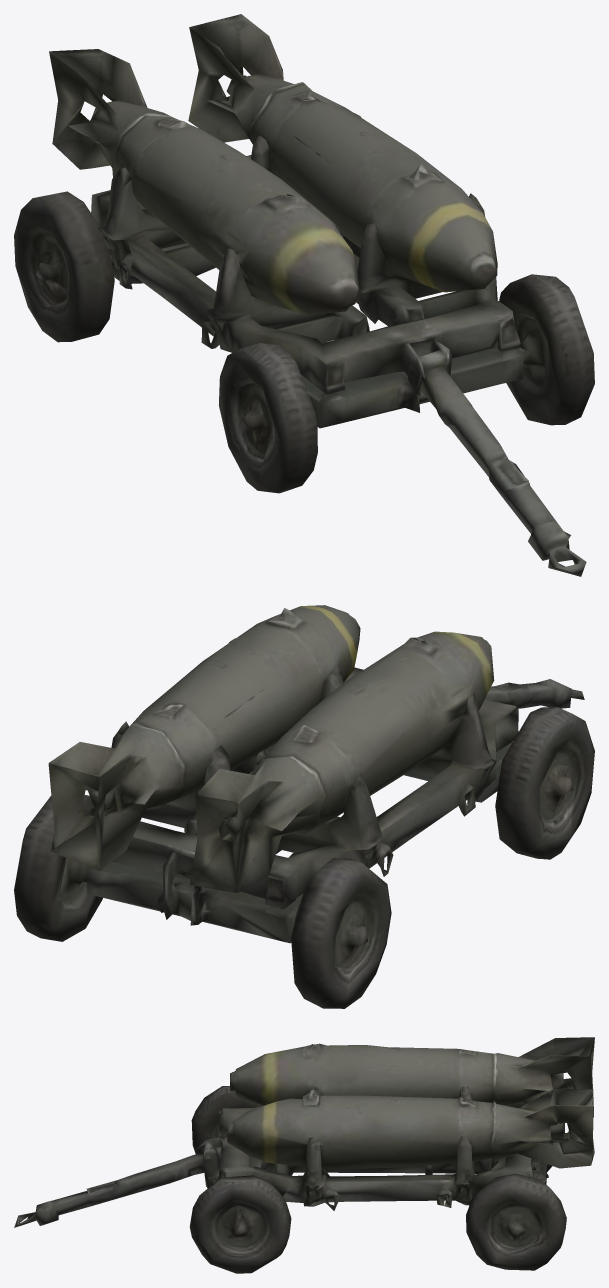
File: prop_bomb_trolley.glb
3 views of the same model, one above another, from view 1: azimuth 30°, elevation 25°; view 2: azimuth 150°, elevation 25°; view 3: azimuth 270°, elevation 25° (orthographic). The views are drawn at different scales.
Parts seen in each view (by area): view 1: tripo_node_83915716-983e-47a9-8b76-56a9cd8e7eac; view 2: tripo_node_83915716-983e-47a9-8b76-56a9cd8e7eac; view 3: tripo_node_83915716-983e-47a9-8b76-56a9cd8e7eac.
Boxes of the visible parts, left/top/right/bottom form: tripo_node_83915716-983e-47a9-8b76-56a9cd8e7eac: left=14, top=14, right=594, bottom=576; tripo_node_83915716-983e-47a9-8b76-56a9cd8e7eac: left=14, top=605, right=594, bottom=1008; tripo_node_83915716-983e-47a9-8b76-56a9cd8e7eac: left=14, top=1037, right=594, bottom=1273.
Size of the model in its own units: 0.434 by 0.3046 by 0.9992.
1 material, 1 textured.
